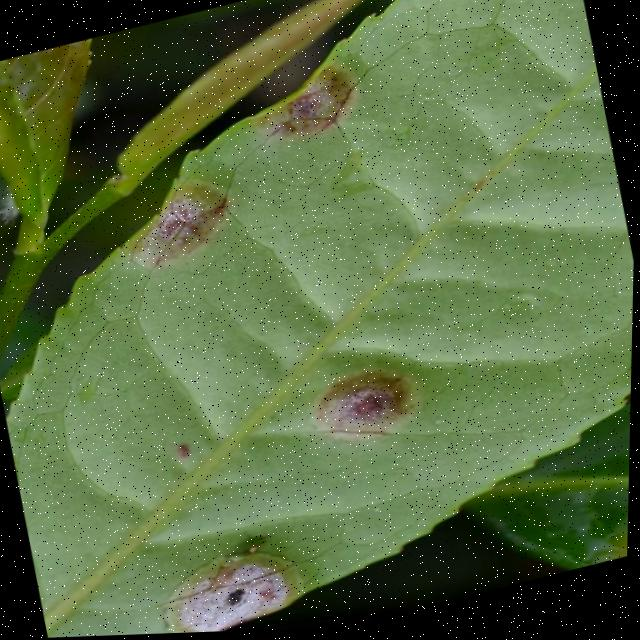Tea cake: (163, 546, 317, 635), (133, 181, 245, 274), (312, 366, 426, 455), (260, 59, 366, 152)
